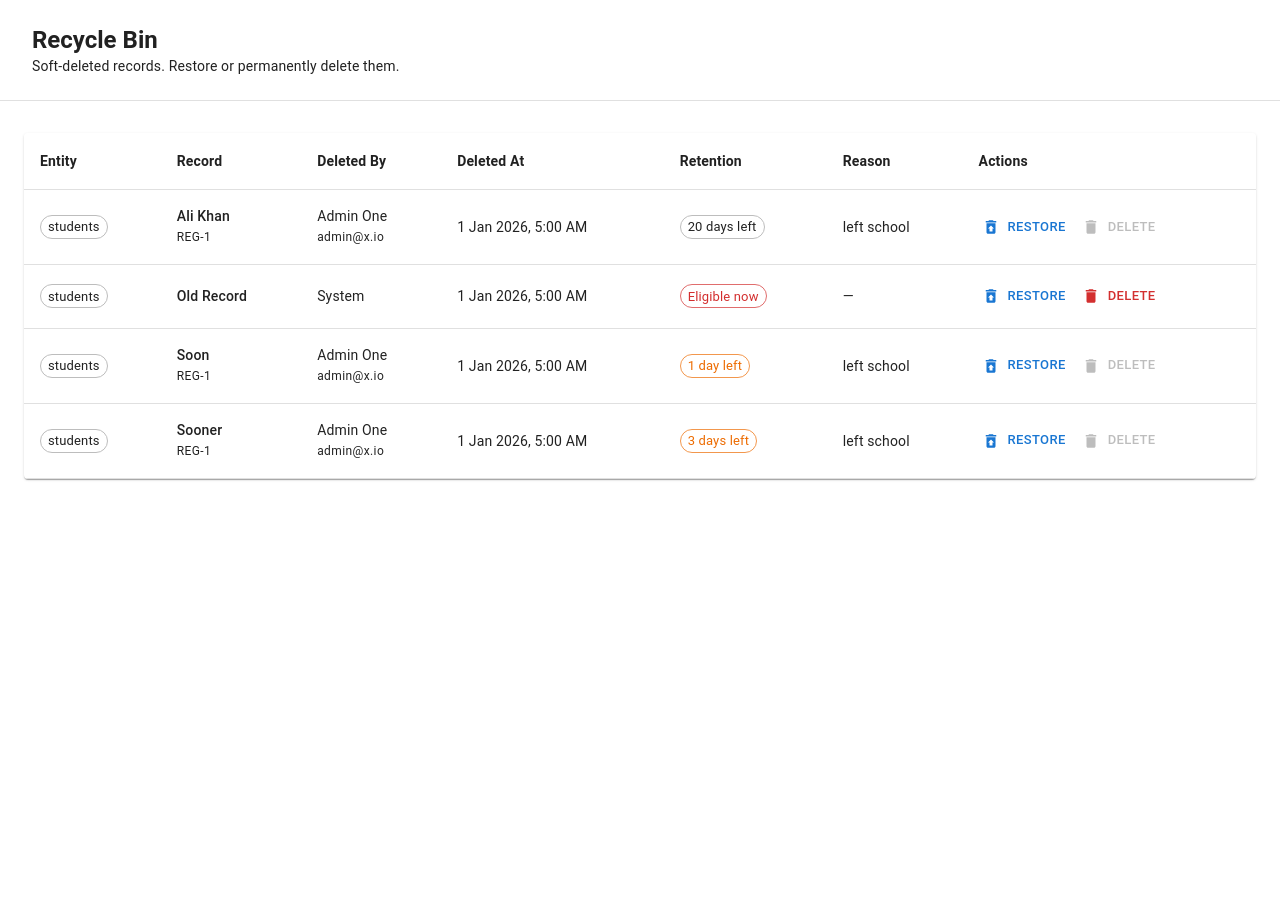
Recycle bin page › cancelling the confirmation performs no action
Expected: the text "Ali Khan" is shown, [177,208,230,224]
Click the button "Restore" in the row of "Ali Khan" at (1025, 227), box [979,212,1071,242]
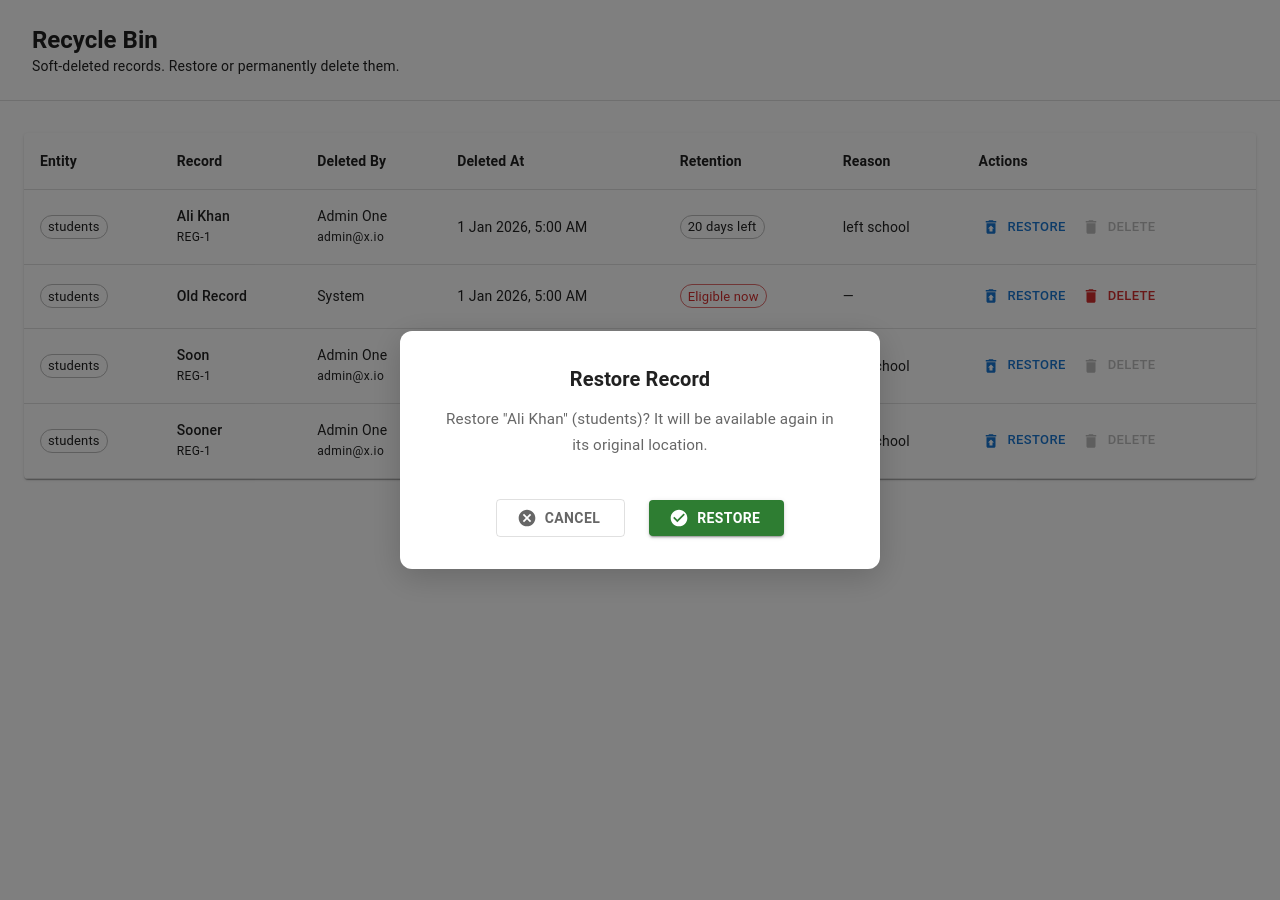
Click the button "Cancel" at (560, 518), box [496,499,625,537]
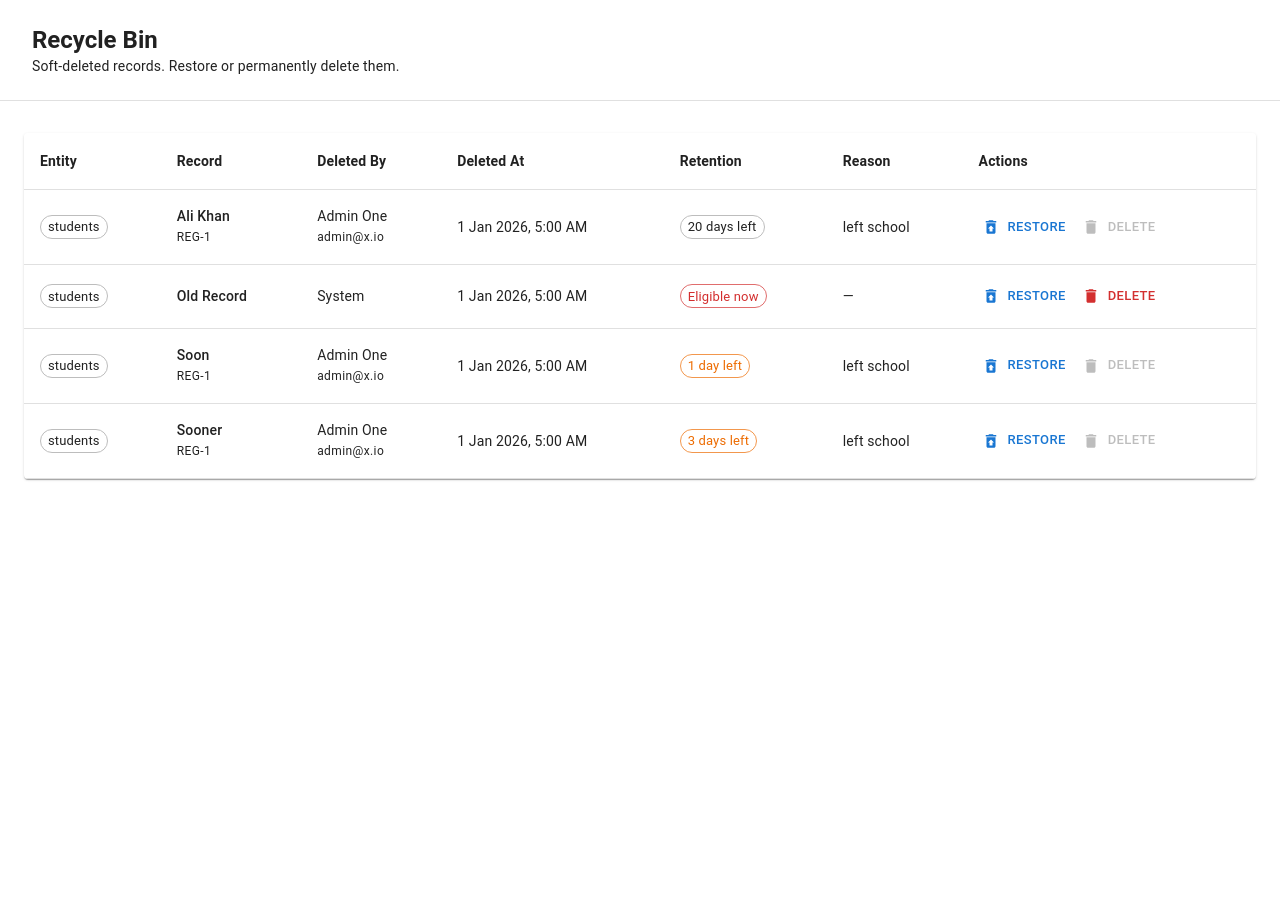
Expected: the text "Restore \"Ali Khan\"" is gone
